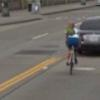bicycles: (67, 38, 85, 76), (66, 36, 69, 47)
